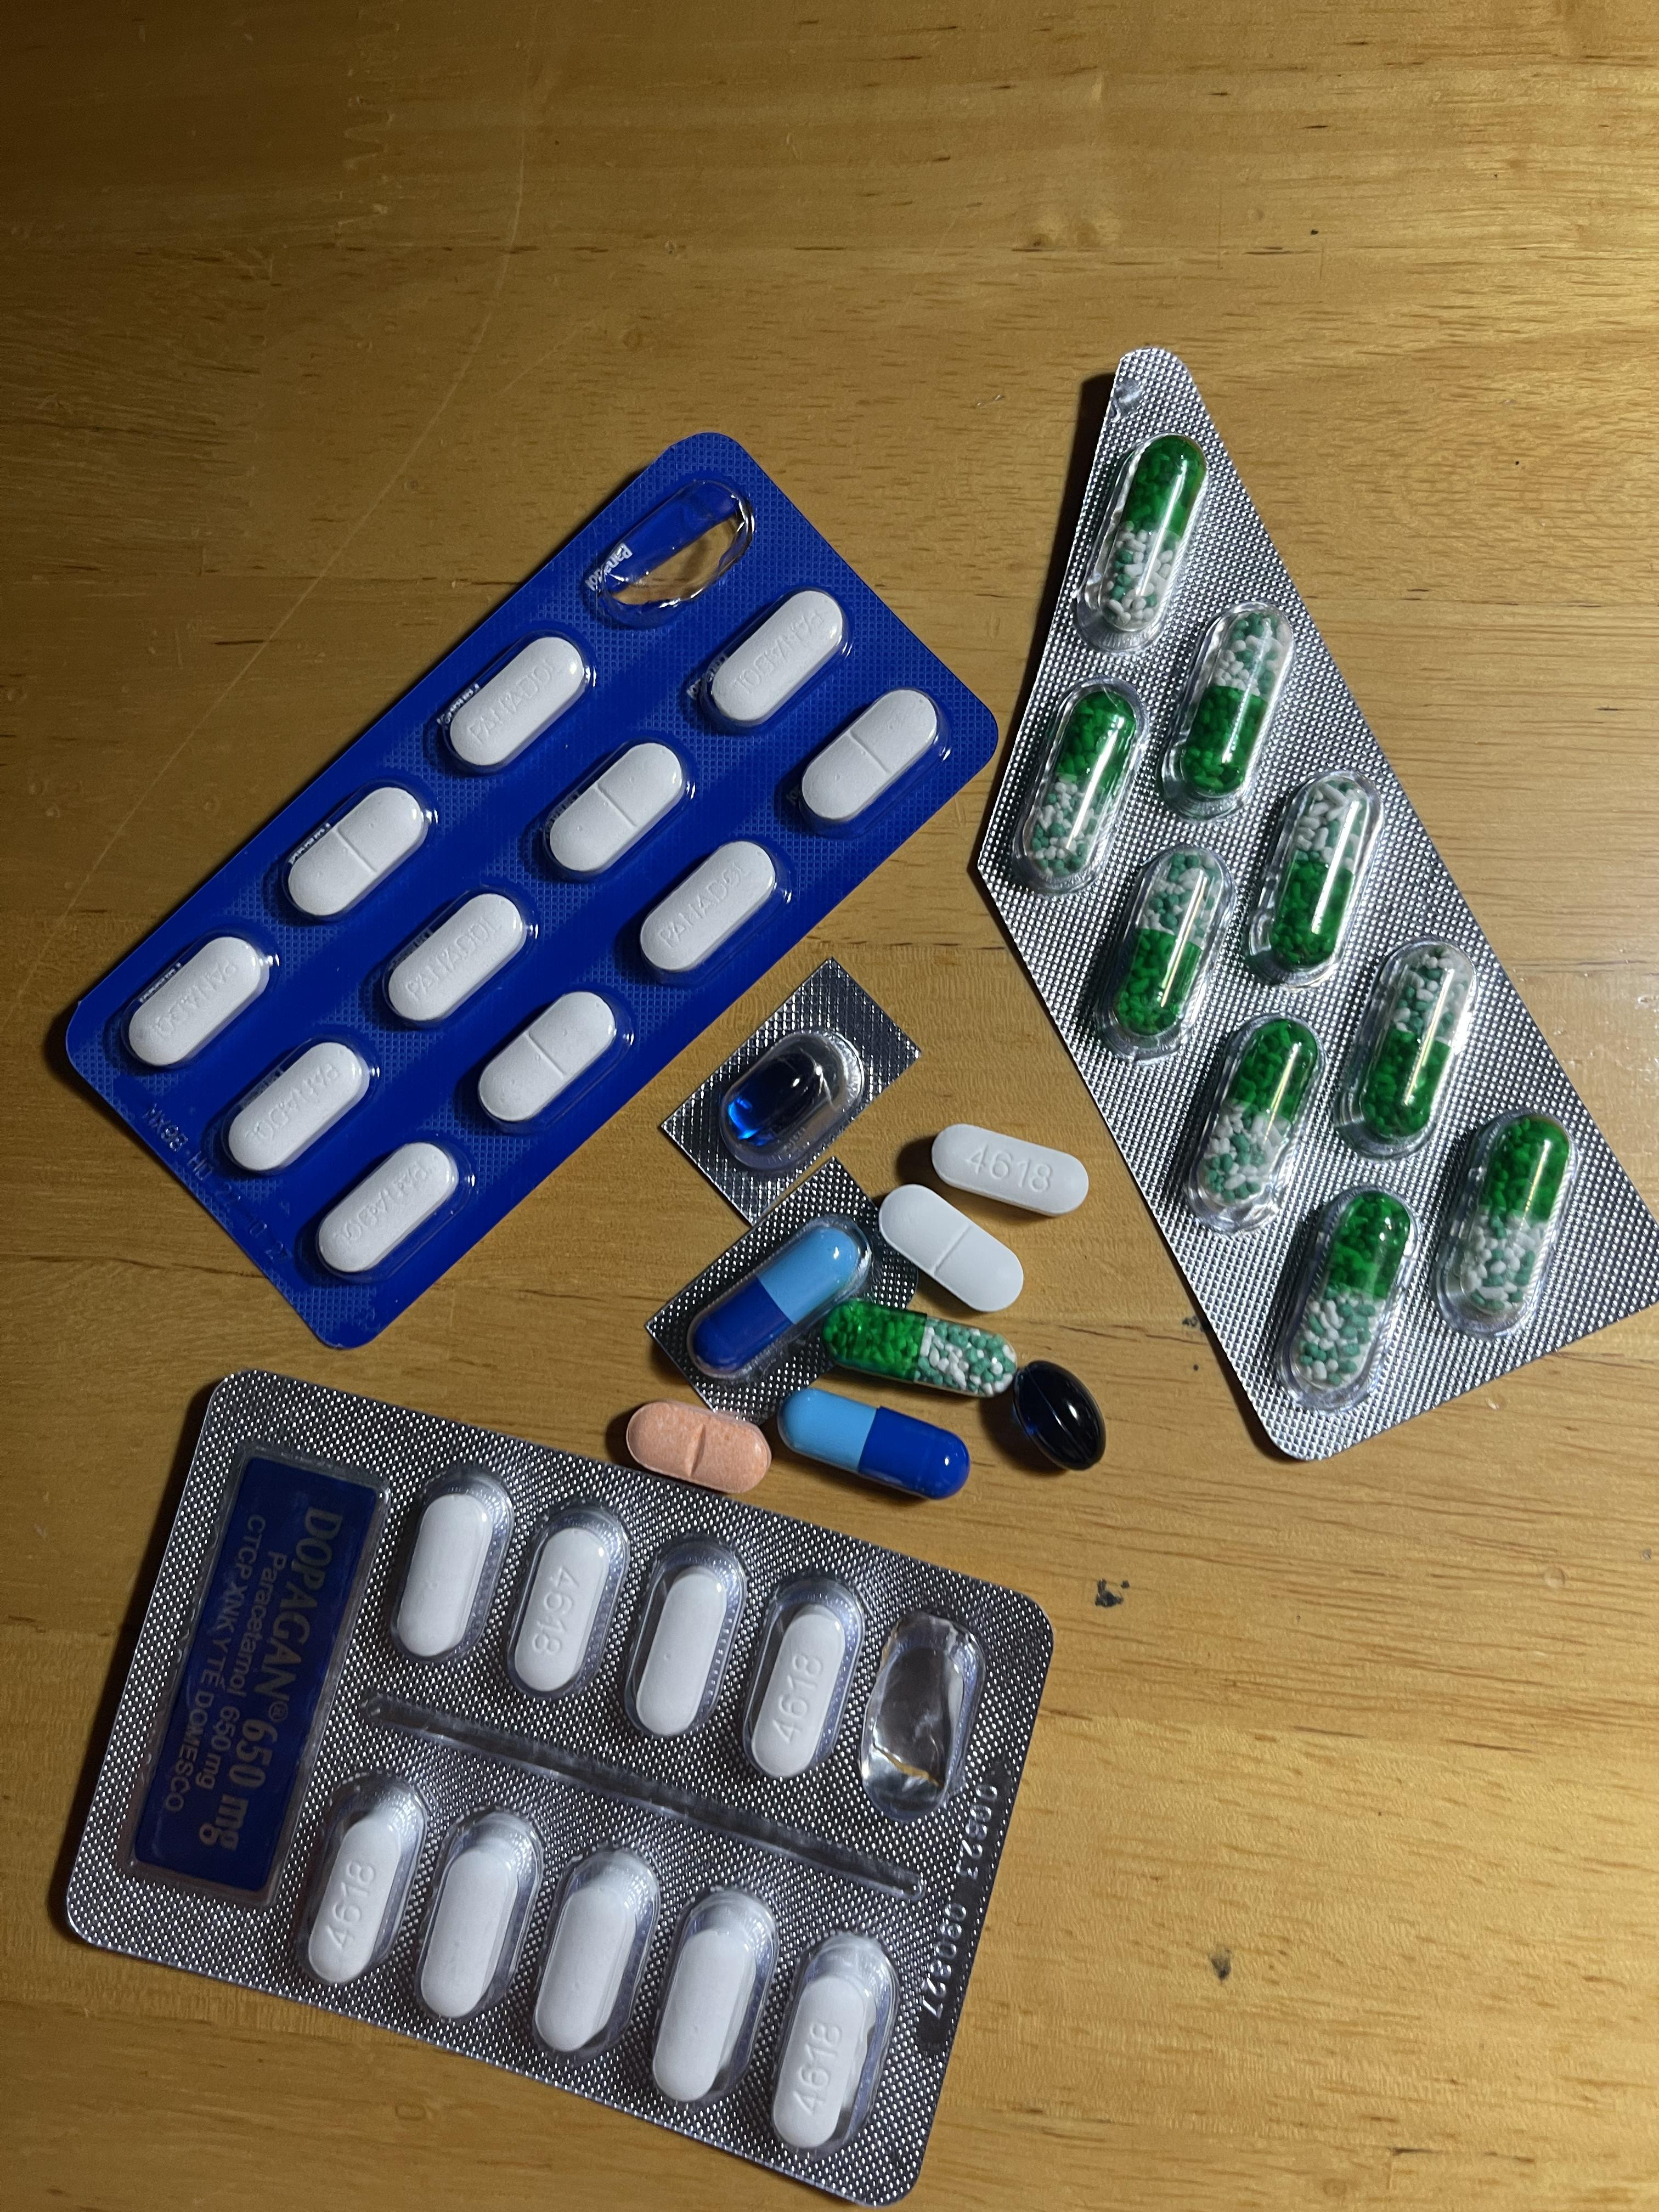Lincomyxin_500mg: (725, 1048, 833, 1149), (1008, 1359, 1105, 1471)
Loratadine_10mg: (628, 1401, 772, 1491)
Paracetamol_350mg: (791, 686, 942, 836), (435, 634, 590, 778), (218, 1035, 376, 1177), (696, 587, 846, 733), (638, 834, 786, 977), (542, 742, 688, 880), (384, 889, 529, 1026), (314, 1139, 460, 1276), (285, 785, 430, 921), (126, 934, 270, 1071), (880, 1181, 1031, 1310), (478, 991, 621, 1126)
Paracetamol_500mg: (305, 1791, 422, 1989), (419, 1830, 532, 2023), (652, 1914, 765, 2102), (536, 1870, 649, 2057), (771, 1971, 876, 2149), (749, 1609, 848, 1779), (634, 1568, 732, 1737), (399, 1493, 496, 1657), (514, 1530, 613, 1691), (930, 1122, 1085, 1218)
Paracetamol_650mg: (1454, 1122, 1568, 1325), (1295, 1198, 1409, 1392), (1197, 1023, 1315, 1204), (1357, 952, 1469, 1138), (1036, 690, 1139, 889), (1100, 438, 1203, 633), (822, 1301, 1019, 1397), (1180, 613, 1285, 793), (1269, 781, 1367, 965), (1115, 853, 1212, 1029)
pill: (688, 1216, 873, 1380), (776, 1387, 972, 1497)
